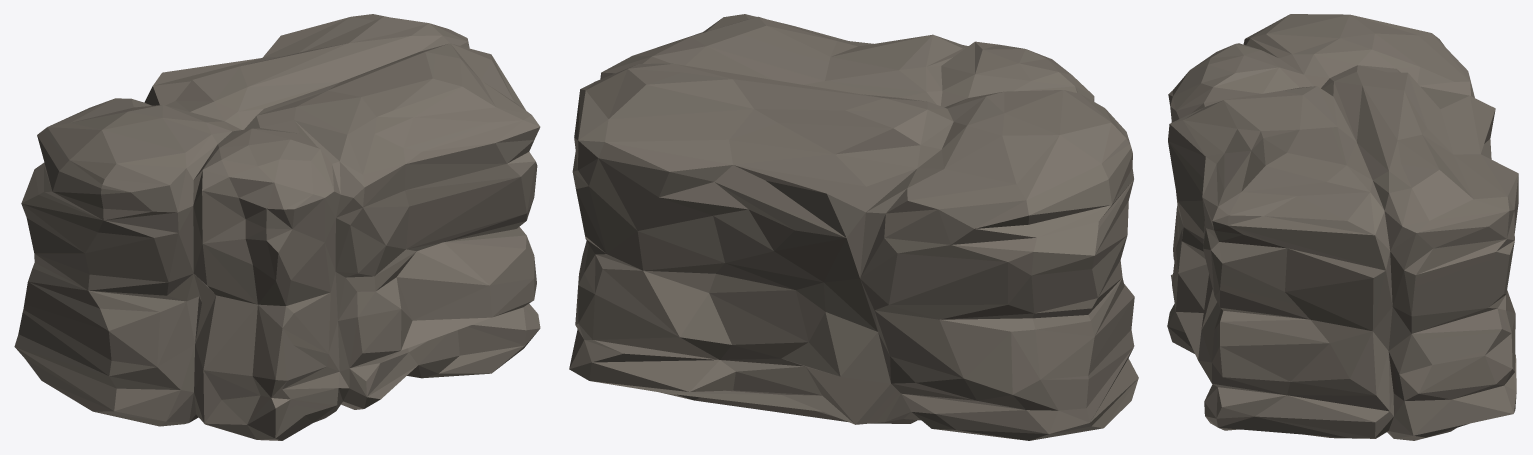
Rendered from SM_Env_Rock_Large_03.glb.
3 views of the same model, side by side, from view 1: azimuth 30°, elevation 25°; view 2: azimuth 150°, elevation 25°; view 3: azimuth 270°, elevation 25° (orthographic). The views are drawn at different scales.
Parts seen in each view (by area): view 1: SM_Env_Rock_Large_03; view 2: SM_Env_Rock_Large_03; view 3: SM_Env_Rock_Large_03.
Part boxes in pixels (x1,y1,x2,y2): SM_Env_Rock_Large_03: (14,14,540,440); SM_Env_Rock_Large_03: (569,14,1138,440); SM_Env_Rock_Large_03: (1167,14,1518,440).
Bounding box in the file's own units: 0.0554 × 0.0318 × 0.0378.
Materials: 1 (1 with a texture image).
